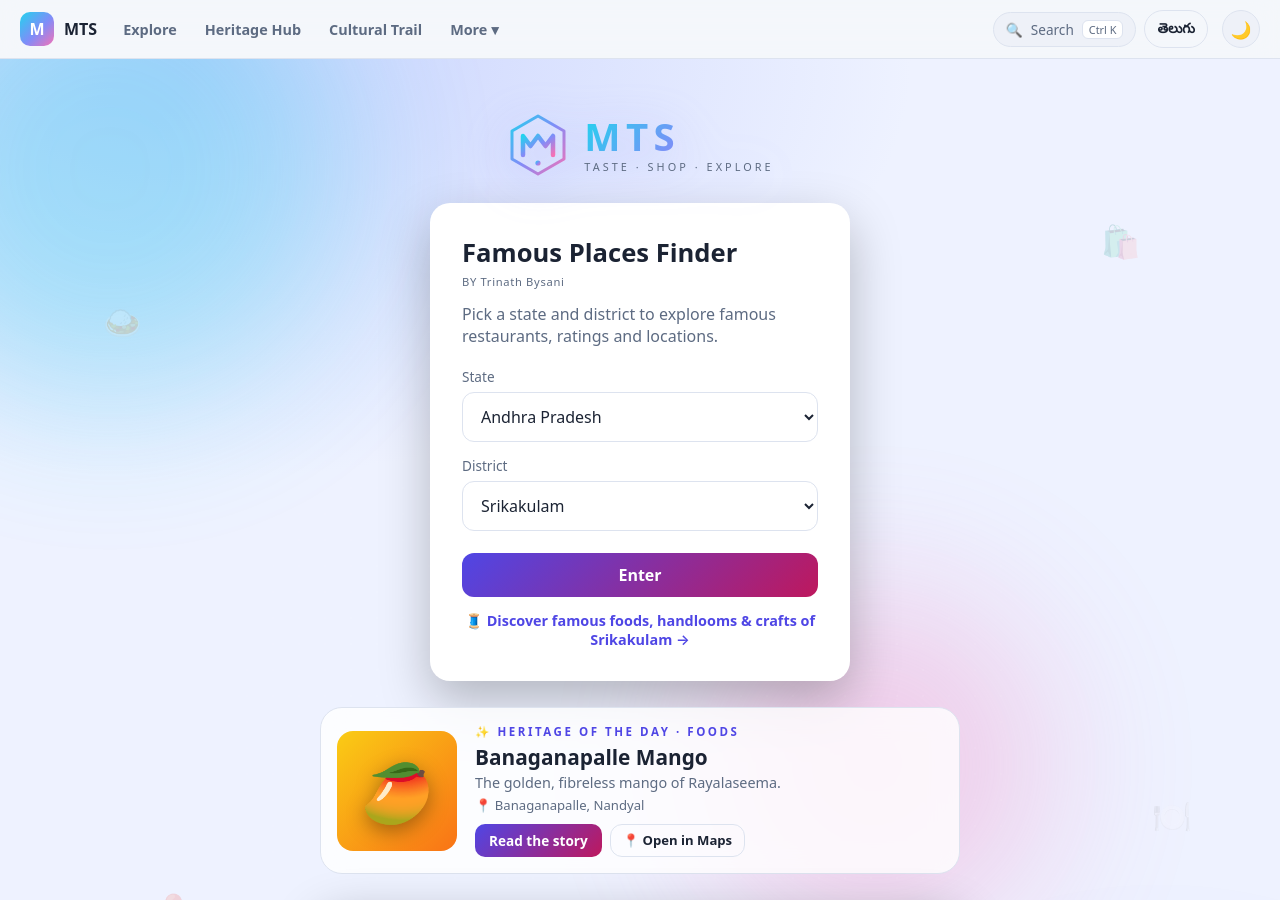
Test: Explore (original finder) › still opens a district from the home page
Click the button "Enter": (640, 575) [462,553,818,597]
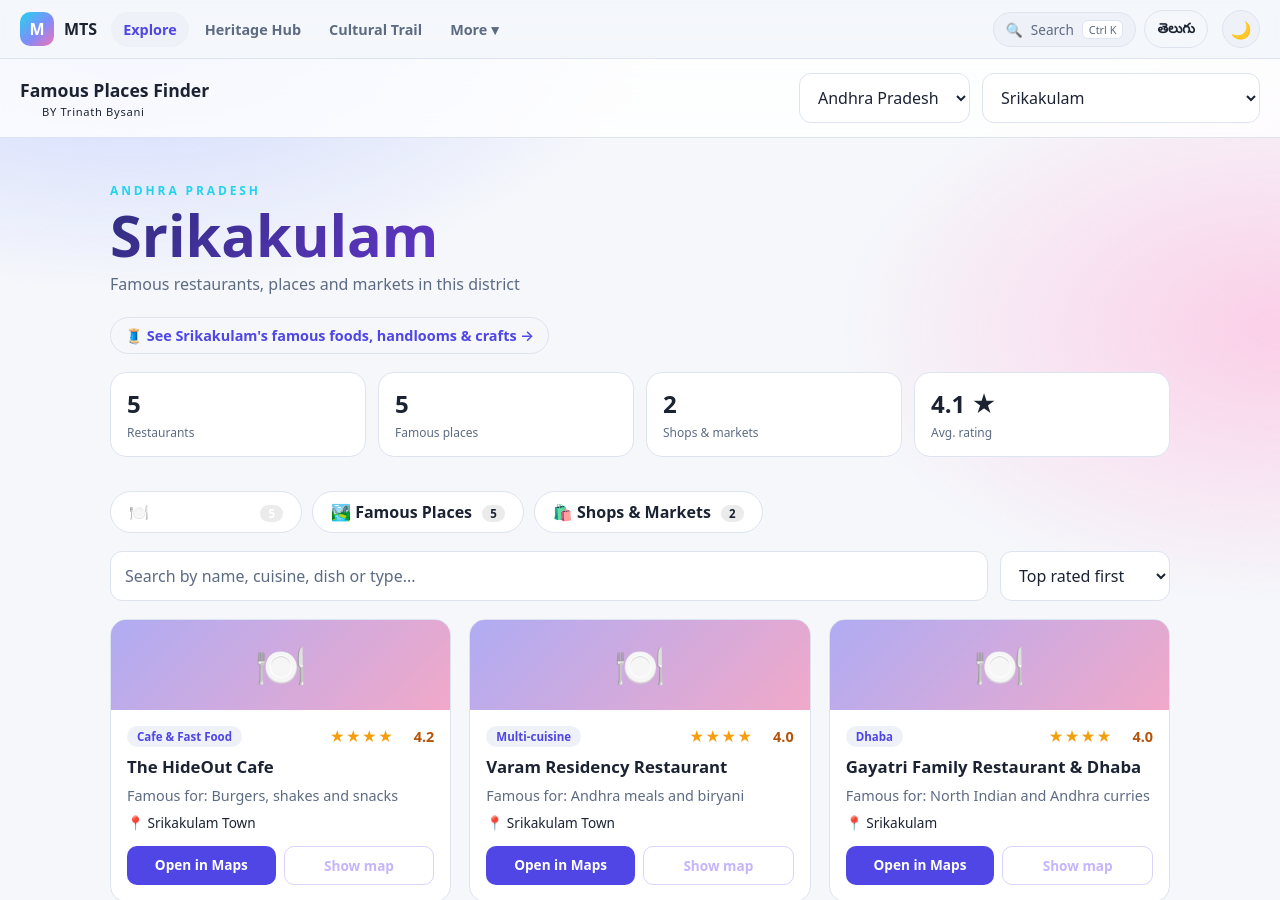
Result: the text "Famous restaurants, places and markets in this district" is shown at [110,274,520,296]
